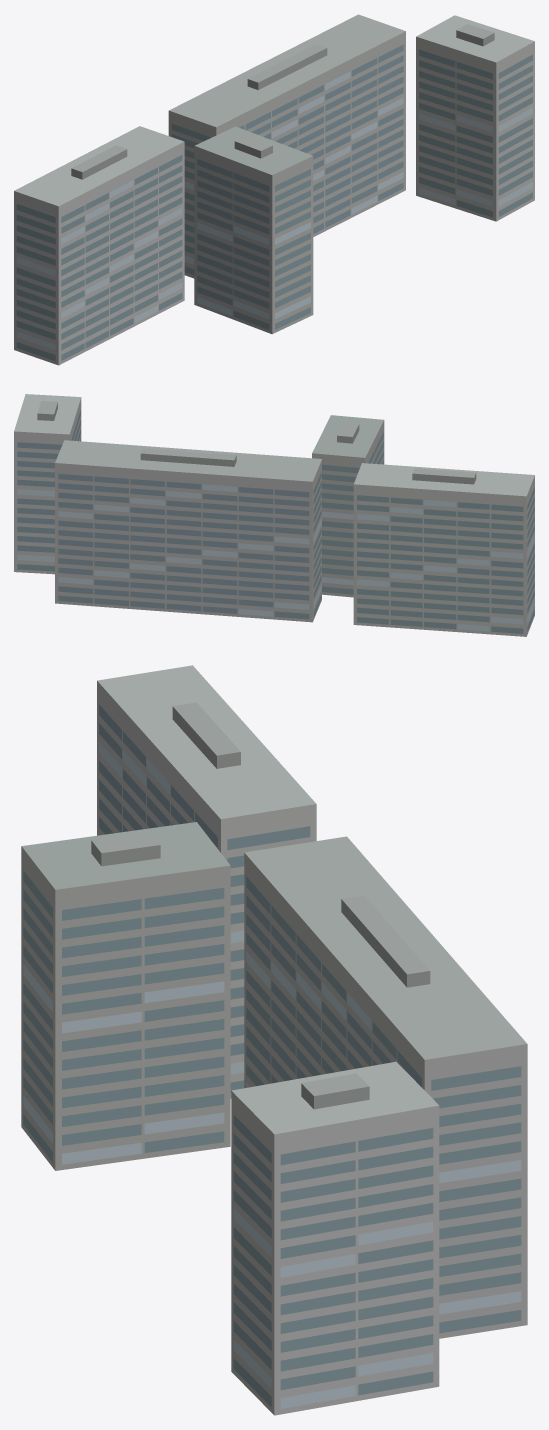
The model's file is apt-a13816101.glb.
3 renders of one model, top to bottom at view 1: azimuth 30°, elevation 25°; view 2: azimuth 150°, elevation 25°; view 3: azimuth 270°, elevation 25°, orthographic. The views are drawn at different scales.
Parts seen in each view (by area): view 1: apt-a13816101; view 2: apt-a13816101; view 3: apt-a13816101.
Part boxes in pixels (x1,y1,x2,y2): apt-a13816101: (14,14,534,365); apt-a13816101: (14,394,534,636); apt-a13816101: (21,665,527,1415).
Bounding box in the file's own units: 137 × 40 × 62.31.
